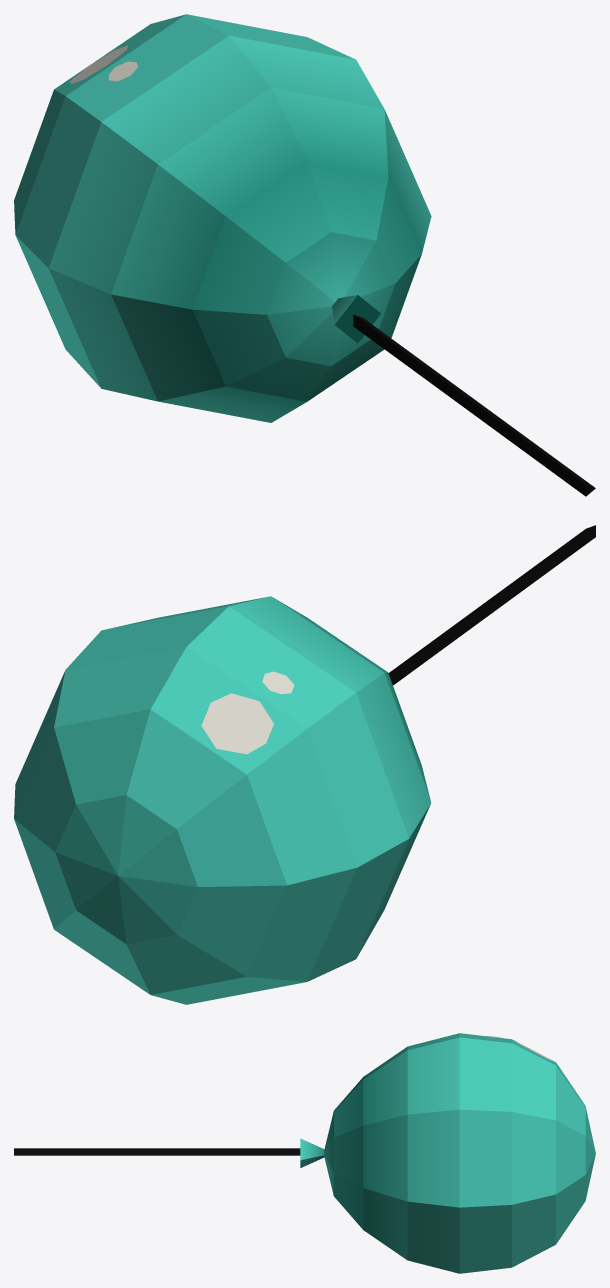
Rendered from AnniversaryGreenBaloon.fbx.
3 views of the same model, one above another, from view 1: azimuth 30°, elevation 25°; view 2: azimuth 150°, elevation 25°; view 3: azimuth 270°, elevation 25° (orthographic). The views are drawn at different scales.
Visible parts, largest first — view 1: AnniversaryGreenBaloon; view 2: AnniversaryGreenBaloon; view 3: AnniversaryGreenBaloon.
Part boxes in pixels (<box>): AnniversaryGreenBaloon: <box>14,14,595,496</box>; AnniversaryGreenBaloon: <box>14,525,595,1004</box>; AnniversaryGreenBaloon: <box>14,1033,595,1273</box>.
Size of the model in its own units: 56.98 by 56.98 by 129.
